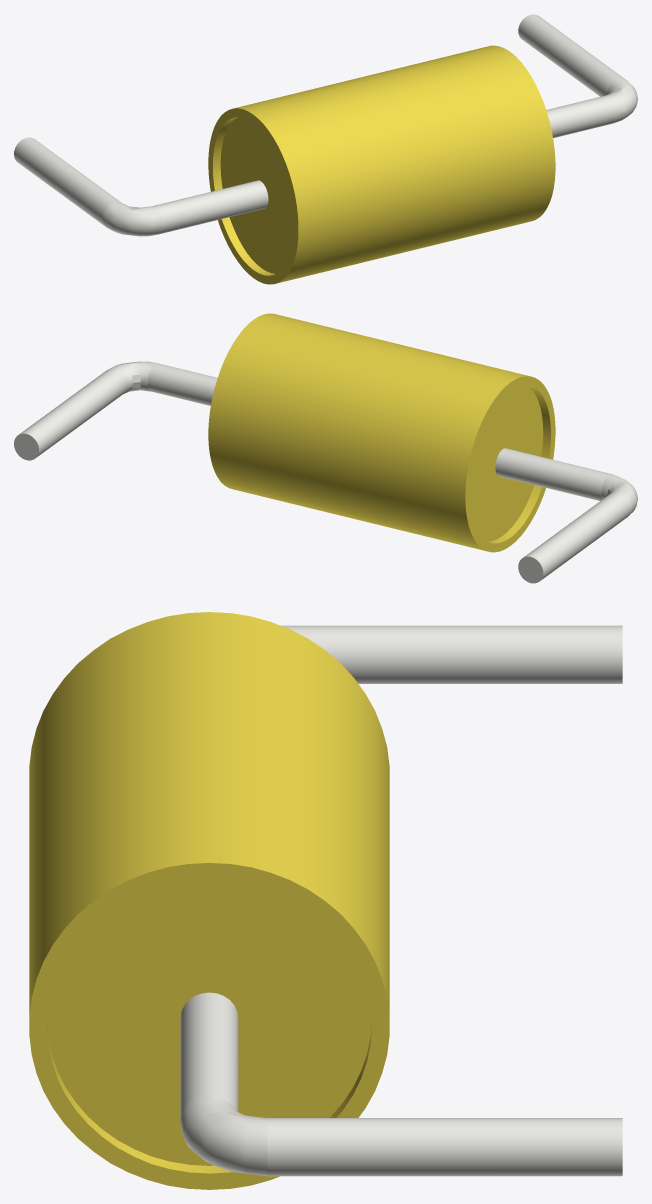
Rendered from C_Axial_L5.1mm_D3.1mm_P10.00mm_Horizontal.glb.
3 renders of one model, top to bottom at view 1: azimuth 30°, elevation 25°; view 2: azimuth 150°, elevation 25°; view 3: azimuth 270°, elevation 25°, orthographic. The views are drawn at different scales.
Parts seen in each view (by area): view 1: Shape_IndexedFaceSet, Shape_IndexedFaceSet.005, Shape_IndexedFaceSet.010, Shape_IndexedFaceSet.008, Shape_IndexedFaceSet.012, Shape_IndexedFaceSet.001, Shape_IndexedFaceSet.009, Shape_IndexedFaceSet.003, Shape_IndexedFaceSet.011; view 2: Shape_IndexedFaceSet, Shape_IndexedFaceSet.005, Shape_IndexedFaceSet.010, Shape_IndexedFaceSet.008, Shape_IndexedFaceSet.012, Shape_IndexedFaceSet.001, Shape_IndexedFaceSet.003, Shape_IndexedFaceSet.011, Shape_IndexedFaceSet.009, Shape_IndexedFaceSet.007, Shape_IndexedFaceSet.013; view 3: Shape_IndexedFaceSet, Shape_IndexedFaceSet.006, Shape_IndexedFaceSet.012, Shape_IndexedFaceSet.008, Shape_IndexedFaceSet.002, Shape_IndexedFaceSet.010, Shape_IndexedFaceSet.011, Shape_IndexedFaceSet.004.
Part boxes in pixels (x1,y1,x2,y2): Shape_IndexedFaceSet: (233, 45, 555, 283); Shape_IndexedFaceSet.005: (220, 117, 293, 273); Shape_IndexedFaceSet.010: (152, 95, 615, 234); Shape_IndexedFaceSet.008: (14, 137, 121, 227); Shape_IndexedFaceSet.012: (518, 14, 627, 96); Shape_IndexedFaceSet.001: (208, 108, 298, 284); Shape_IndexedFaceSet.009: (102, 202, 162, 236); Shape_IndexedFaceSet.003: (213, 117, 275, 275); Shape_IndexedFaceSet.011: (606, 79, 637, 122); Shape_IndexedFaceSet: (208, 313, 529, 551); Shape_IndexedFaceSet.005: (470, 385, 543, 541); Shape_IndexedFaceSet.010: (148, 363, 611, 500); Shape_IndexedFaceSet.008: (524, 491, 631, 580); Shape_IndexedFaceSet.012: (19, 368, 127, 456); Shape_IndexedFaceSet.001: (465, 376, 555, 552); Shape_IndexedFaceSet.003: (488, 385, 550, 543); Shape_IndexedFaceSet.011: (110, 361, 156, 393); Shape_IndexedFaceSet.009: (601, 474, 637, 513); Shape_IndexedFaceSet.007: (518, 556, 543, 583); Shape_IndexedFaceSet.013: (14, 433, 38, 460); Shape_IndexedFaceSet: (29, 612, 389, 1015); Shape_IndexedFaceSet.006: (47, 879, 371, 1165); Shape_IndexedFaceSet.012: (267, 1118, 622, 1176); Shape_IndexedFaceSet.008: (281, 625, 622, 683); Shape_IndexedFaceSet.002: (29, 863, 389, 1189); Shape_IndexedFaceSet.010: (180, 992, 238, 1119); Shape_IndexedFaceSet.011: (180, 1096, 267, 1175); Shape_IndexedFaceSet.004: (47, 1024, 371, 1173).
Bounding box in the file's own units: 4.13 × 1.22 × 2.01.
